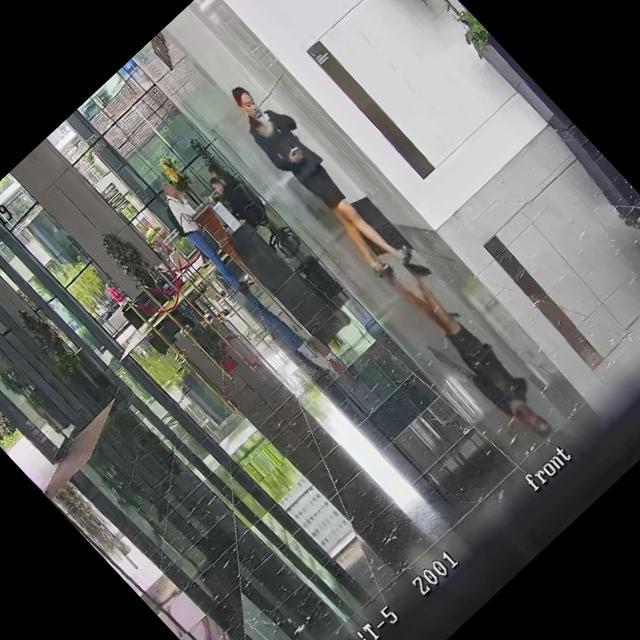person: (215, 73, 418, 284), (147, 178, 262, 298), (204, 164, 272, 233), (138, 254, 184, 302), (204, 154, 242, 193), (104, 280, 128, 306), (89, 296, 113, 320)
